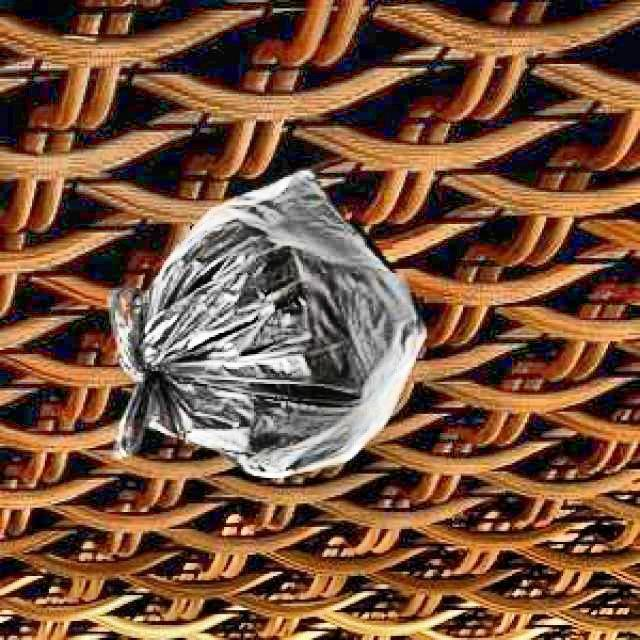Trashbag: (119, 160, 425, 498)
